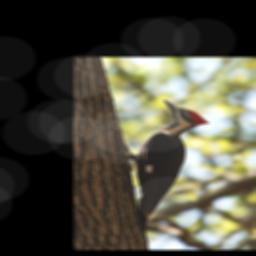Woodpecker: (114, 98, 210, 244)
